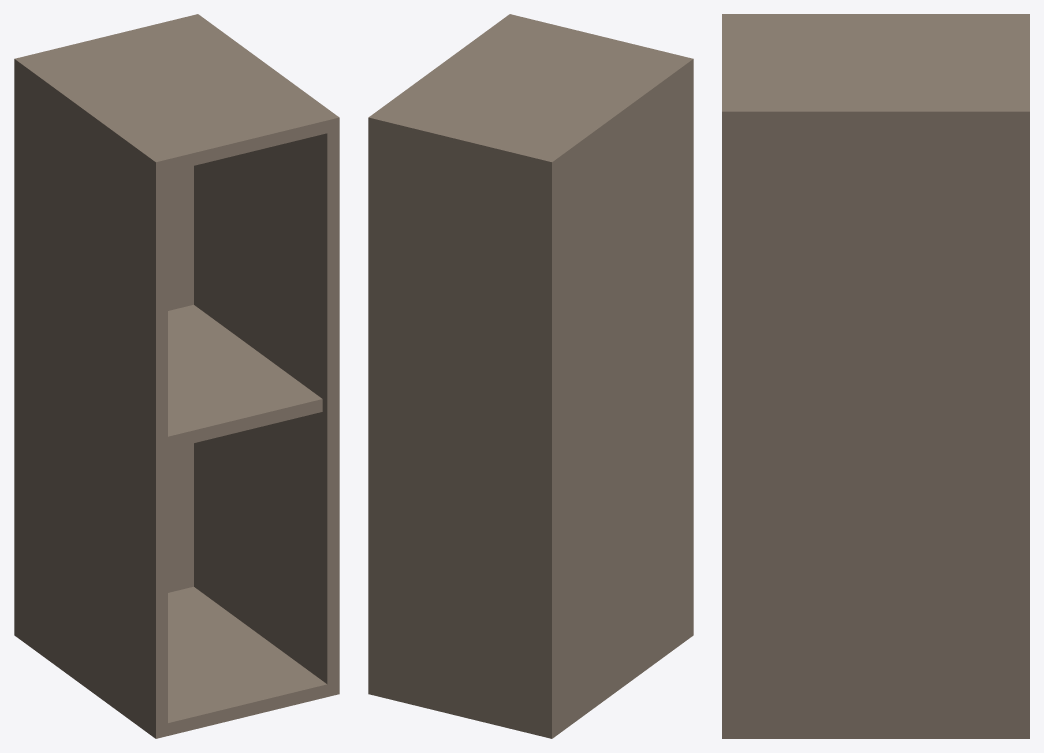
The model's file is Kitchen1_C5_10.fbx.
3 views of the same model, side by side, from view 1: azimuth 30°, elevation 25°; view 2: azimuth 150°, elevation 25°; view 3: azimuth 270°, elevation 25° (orthographic). The views are drawn at different scales.
Parts seen in each view (by area): view 1: Kitchen1_C5_10; view 2: Kitchen1_C5_10; view 3: Kitchen1_C5_10.
Boxes of the visible parts, <box> form: Kitchen1_C5_10: <box>14,14,339,738</box>; Kitchen1_C5_10: <box>368,14,693,738</box>; Kitchen1_C5_10: <box>722,14,1029,738</box>.
Size of the model in its own units: 30 by 90 by 40.
